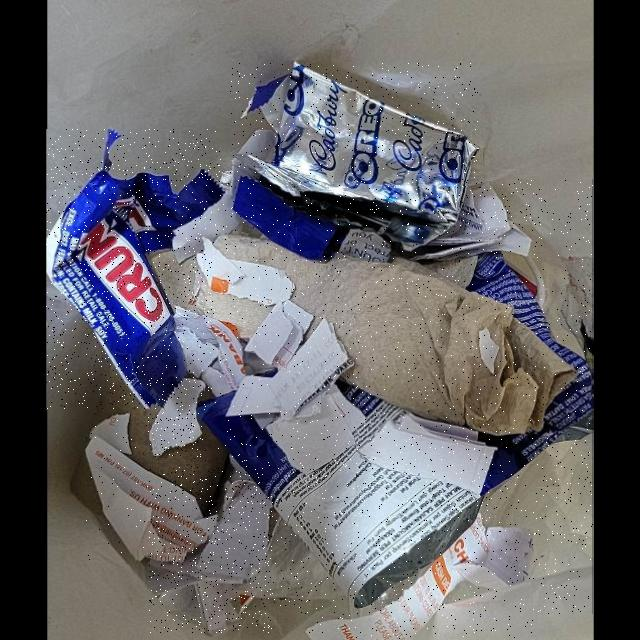paper: (213, 235, 576, 436), (305, 517, 533, 640), (149, 467, 272, 633), (85, 413, 216, 564), (225, 319, 354, 428), (151, 251, 272, 341), (396, 187, 532, 264), (267, 382, 368, 476), (199, 239, 296, 308), (174, 307, 245, 397), (245, 300, 317, 371), (148, 379, 204, 457)
wrapper: (148, 179, 593, 614), (47, 130, 223, 410), (230, 64, 478, 262)
